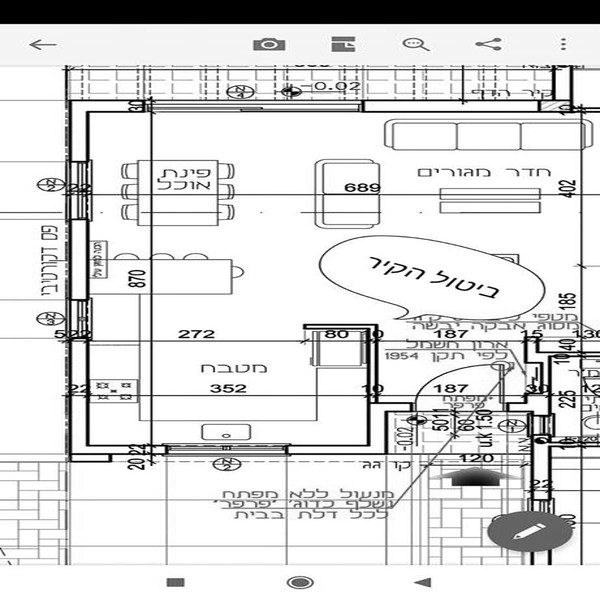door: (412, 354, 507, 416)
room: (58, 84, 594, 467)
wall: (59, 338, 98, 469), (366, 376, 408, 463), (522, 418, 561, 503), (87, 439, 164, 467), (65, 217, 94, 290), (67, 98, 98, 164), (295, 439, 388, 456)
window: (152, 86, 366, 124), (164, 432, 287, 461), (61, 161, 99, 217), (66, 291, 100, 339)
